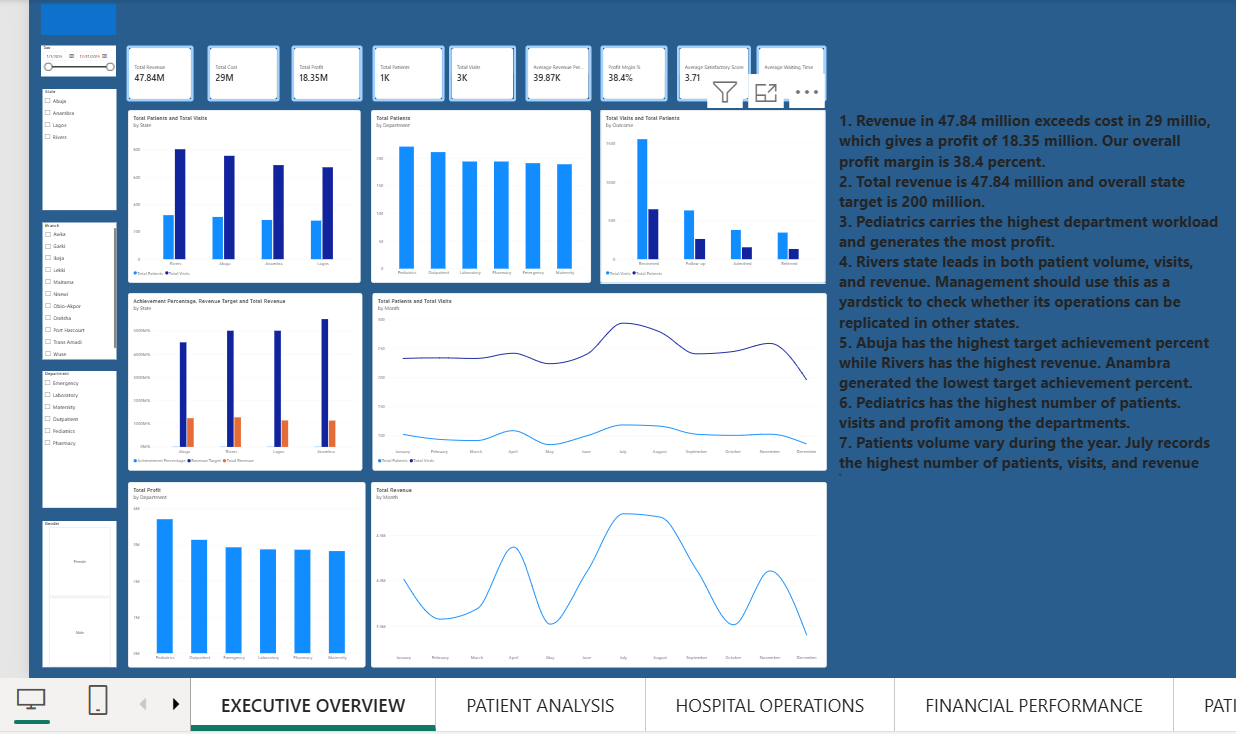

The dashboard page shown, as its layout file describes it:
{"tool":"powerbi","page":{"name":"EXECUTIVE OVERVIEW","canvas":[3840,2160],"ordinal":0},"visuals":[{"type":"cardVisual","fields":{"Data":["Patient_Visits.Total Patients"]},"box":[1091.2,149.5,229,178.1],"z":0},{"type":"cardVisual","fields":{"Data":["Patient_Visits.Total Visits"]},"box":[1336.1,149.5,213.1,178.1],"z":1000},{"type":"cardVisual","fields":{"Data":["Patient_Visits.Total Revenue"]},"box":[311.8,149.5,213.1,178.1],"z":2000},{"type":"cardVisual","fields":{"Data":["Patient_Visits.Total Cost"]},"box":[569.4,149.5,229,178.1],"z":3000},{"type":"cardVisual","fields":{"Data":["Patient_Visits.Total Profit"]},"box":[836.7,149.5,225.9,178.1],"z":4000},{"type":"cardVisual","fields":{"Data":["Patient_Visits.Profit Mrgin %"]},"box":[1819.7,149.5,213.1,178.1],"z":5000},{"type":"cardVisual","fields":{"Data":["Patient_Visits.Average Revenue Per Patients"]},"box":[1581.1,149.5,210,178.1],"z":6000},{"type":"cardVisual","fields":{"Data":["Patient_Visits.Average Waiting Time"]},"box":[2312.7,149.5,222.7,178.1],"z":7000},{"type":"cardVisual","fields":{"Data":["Patient_Visits.Average Satisfactory Score"]},"box":[2061.4,149.5,235.4,178.1],"z":8000},{"type":"lineChart","fields":{"Category":["Date_Table.Month"],"Y":["Patient_Visits.Total Patients","Patient_Visits.Total Visits"]},"box":[1095,935,1445,565],"z":9000},{"type":"clusteredColumnChart","fields":{"Category":["Patient_Visits.Department"],"Y":["Patient_Visits.Total Patients"]},"box":[1090,355,700,550],"z":11000},{"type":"clusteredColumnChart","fields":{"Category":["State_Targets.State"],"Y":["Patient_Visits.Achievement Percentage","State_Targets.Revenue Target","Patient_Visits.Total Revenue"]},"box":[315,935,745,565],"z":12000},{"type":"clusteredColumnChart","fields":{"Category":["Patient_Visits.Outcome"],"Y":["Patient_Visits.Total Visits","Patient_Visits.Total Patients"]},"box":[1820,355,715,550],"z":13000},{"type":"slicer","fields":{"Values":["Patient_Visits.State"]},"box":[45,285,235,385],"z":14000},{"type":"slicer","fields":{"Values":["Date_Table.Date"]},"box":[40,150,236.7,96.7],"z":15000},{"type":"slicer","fields":{"Values":["Patient_Visits.Branch"]},"box":[45,710,235,435],"z":16000},{"type":"slicer","fields":{"Values":["Patient_Visits.Department"]},"box":[45,1185,235,435],"z":17000},{"type":"slicer","fields":{"Values":["Patient_Visits.Gender"]},"box":[45,1660,235,465],"z":18000},{"type":"actionButton","box":[40,16.7,240,100],"z":19000},{"type":"textbox","box":[2575,355,1210,1580],"z":19001},{"type":"clusteredColumnChart","fields":{"Category":["Patient_Visits.Department"],"Y":["Patient_Visits.Total Profit"]},"box":[315,1535,755,590],"z":19002},{"type":"clusteredColumnChart","fields":{"Category":["Patient_Visits.State"],"Y":["Patient_Visits.Total Patients","Patient_Visits.Total Visits"]},"box":[315,355,740,550],"z":19003},{"type":"lineChart","fields":{"Category":["Date_Table.Month"],"Y":["Patient_Visits.Total Revenue"]},"box":[1090,1535,1450,590],"z":19004}]}

Visuals, with their boxes in screenshot pixels (x1, y1, x2, y2):
cardVisual - Patient_Visits.Total Patients: {"left": 369, "top": 41, "right": 442, "bottom": 98}
cardVisual - Patient_Visits.Total Visits: {"left": 447, "top": 41, "right": 514, "bottom": 98}
cardVisual - Patient_Visits.Total Revenue: {"left": 122, "top": 41, "right": 189, "bottom": 98}
cardVisual - Patient_Visits.Total Cost: {"left": 203, "top": 41, "right": 276, "bottom": 98}
cardVisual - Patient_Visits.Total Profit: {"left": 288, "top": 41, "right": 360, "bottom": 98}
cardVisual - Patient_Visits.Profit Mrgin %: {"left": 600, "top": 41, "right": 668, "bottom": 98}
cardVisual - Patient_Visits.Average Revenue Per Patients: {"left": 524, "top": 41, "right": 591, "bottom": 98}
cardVisual - Patient_Visits.Average Waiting Time: {"left": 757, "top": 41, "right": 827, "bottom": 98}
cardVisual - Patient_Visits.Average Satisfactory Score: {"left": 677, "top": 41, "right": 752, "bottom": 98}
lineChart - Date_Table.Month x Patient_Visits.Total Patients: {"left": 370, "top": 290, "right": 829, "bottom": 470}
clusteredColumnChart - Patient_Visits.Department x Patient_Visits.Total Patients: {"left": 369, "top": 106, "right": 591, "bottom": 281}
clusteredColumnChart - State_Targets.State x Patient_Visits.Achievement Percentage: {"left": 123, "top": 290, "right": 359, "bottom": 470}
clusteredColumnChart - Patient_Visits.Outcome x Patient_Visits.Total Visits: {"left": 600, "top": 106, "right": 827, "bottom": 281}
slicer - Patient_Visits.State: {"left": 37, "top": 84, "right": 111, "bottom": 206}
slicer - Date_Table.Date: {"left": 35, "top": 41, "right": 110, "bottom": 72}
slicer - Patient_Visits.Branch: {"left": 37, "top": 219, "right": 111, "bottom": 357}
slicer - Patient_Visits.Department: {"left": 37, "top": 370, "right": 111, "bottom": 508}
slicer - Patient_Visits.Gender: {"left": 37, "top": 520, "right": 111, "bottom": 668}
actionButton: {"left": 35, "top": 0, "right": 111, "bottom": 31}
textbox: {"left": 840, "top": 106, "right": 1224, "bottom": 608}
clusteredColumnChart - Patient_Visits.Department x Patient_Visits.Total Profit: {"left": 123, "top": 481, "right": 362, "bottom": 668}
clusteredColumnChart - Patient_Visits.State x Patient_Visits.Total Patients: {"left": 123, "top": 106, "right": 357, "bottom": 281}
lineChart - Date_Table.Month x Patient_Visits.Total Revenue: {"left": 369, "top": 481, "right": 829, "bottom": 668}
